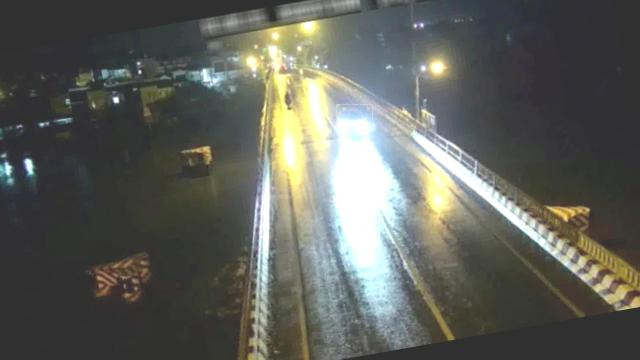Car: (334, 100, 376, 138)
